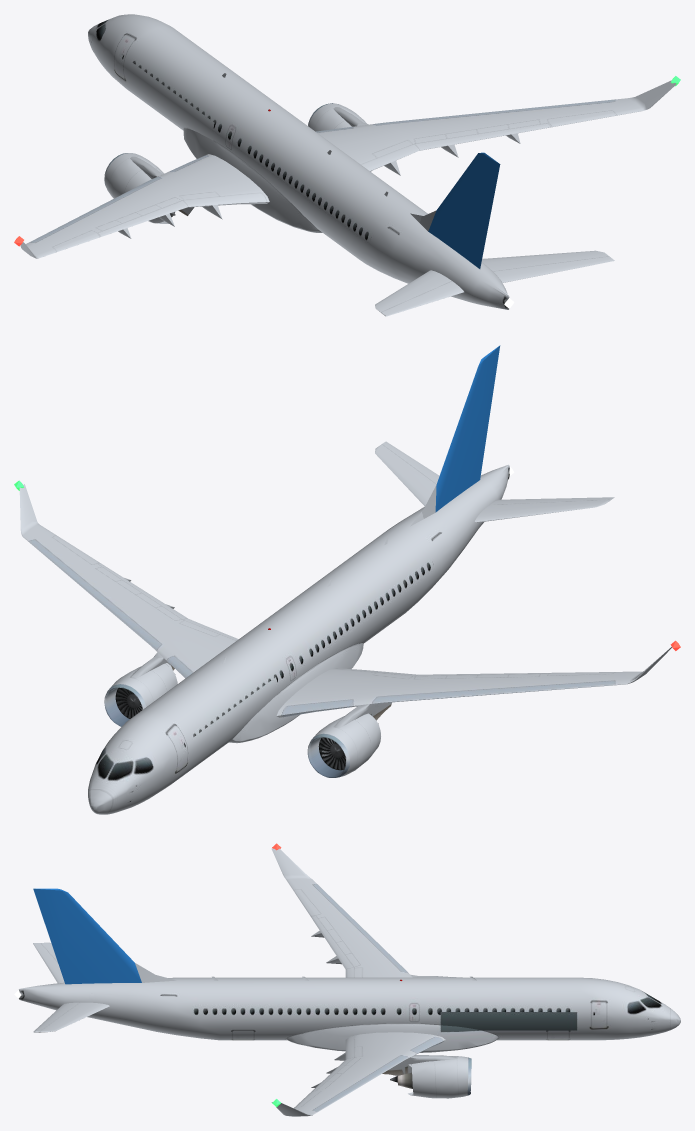
The picture shows the model from 3 angles, top to bottom: view 1: azimuth 30°, elevation 25°; view 2: azimuth 150°, elevation 25°; view 3: azimuth 270°, elevation 25°; orthographic projection. The views are drawn at different scales.
Visible parts, largest first — view 1: a220; view 2: a220; view 3: a220.
Boxes of the visible parts, x1,y1,x2,y2 form: a220: (14, 14, 680, 316); a220: (14, 345, 680, 814); a220: (14, 843, 680, 1116).
Size of the model in its own units: 35.86 by 10.87 by 38.97.
5 materials, 2 textured.
